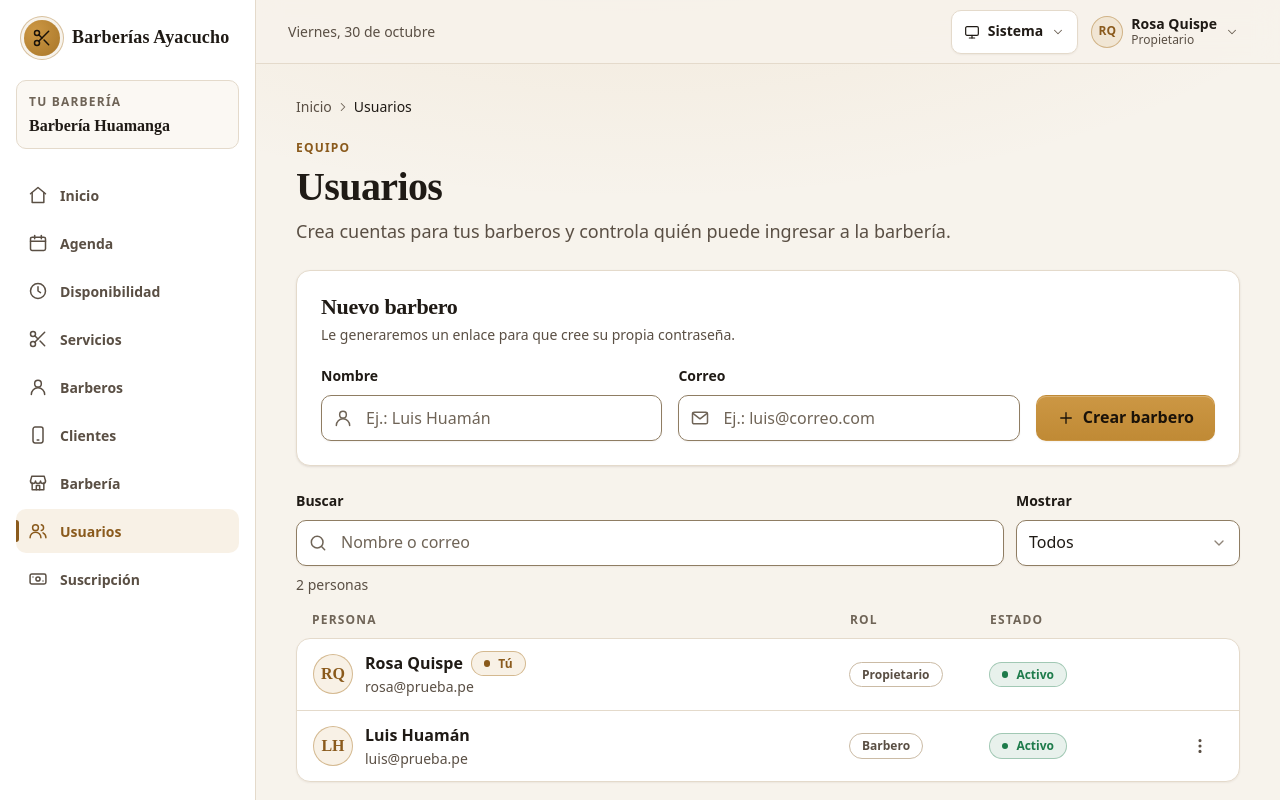
Scenario: Página de usuarios › desactivar desde el menú de la fila pide confirmación y solo envía el cambio si se confirma
Click the button named "acciones para luis huamán" at (1200, 746), box [1177,723,1223,769]
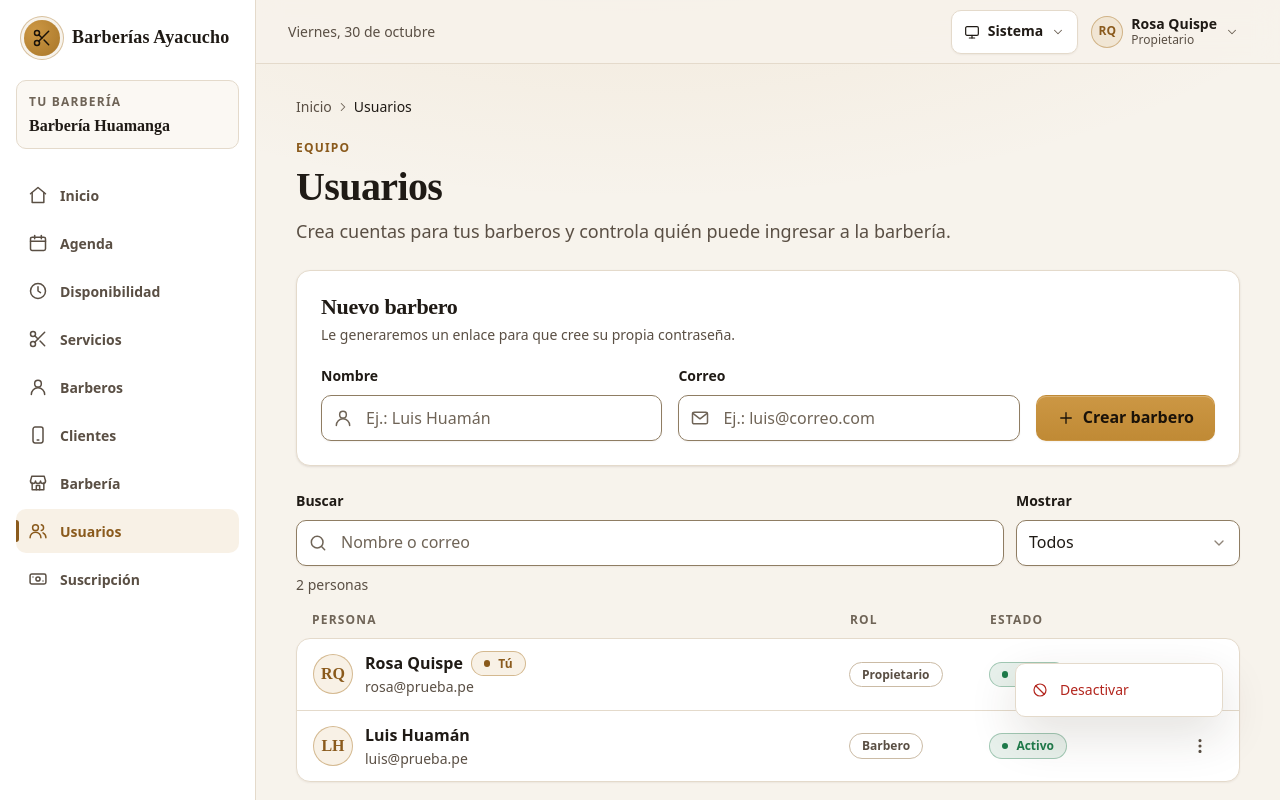
Click the menu item "Desactivar" at (1080, 690), box [1032,680,1129,699]
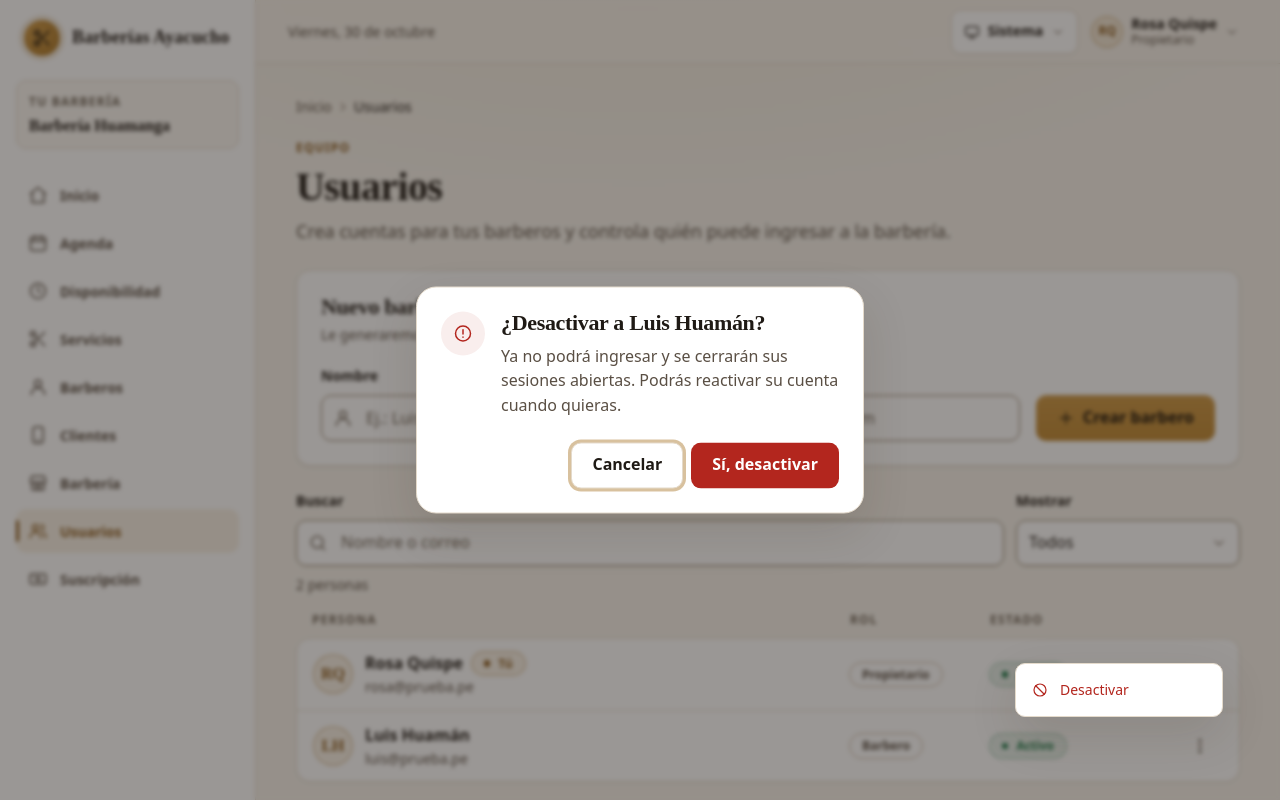
Click the button "Cancelar" at (627, 466), box [571,442,683,488]
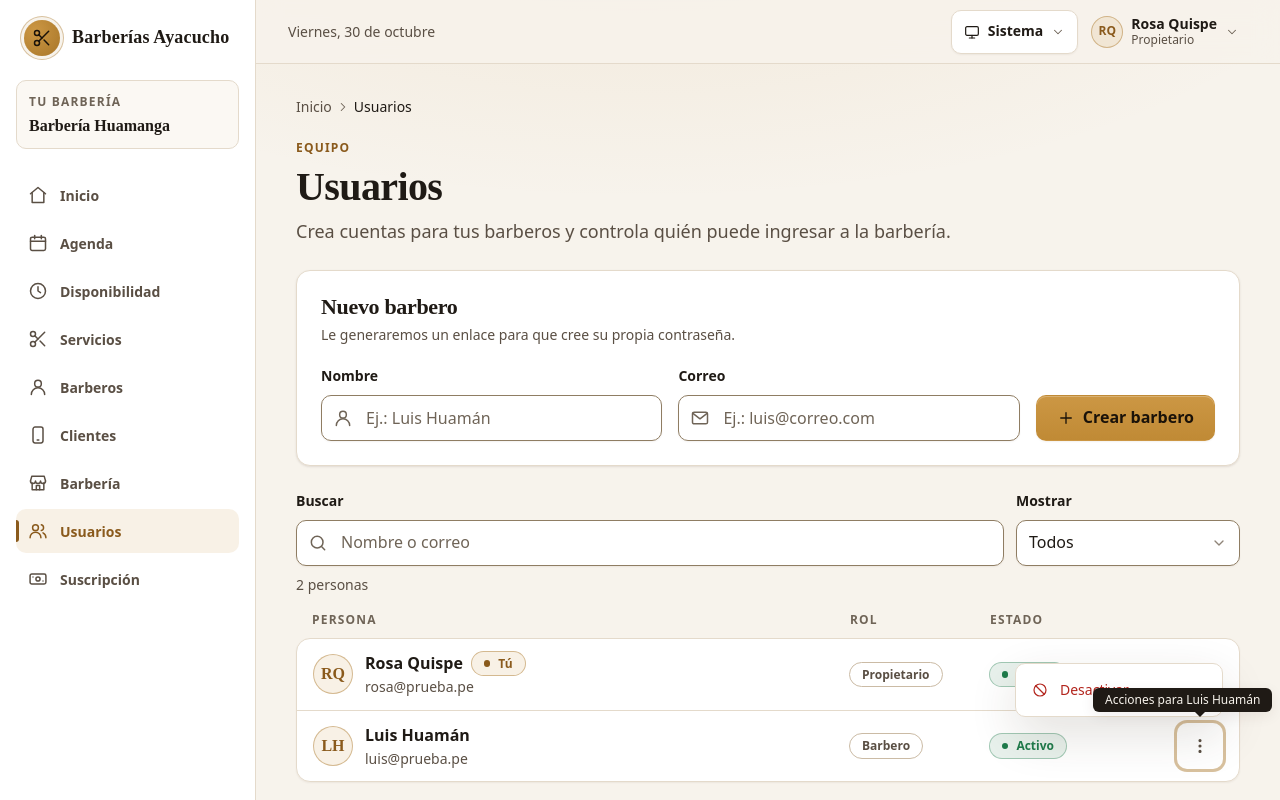
Result: the dialog is gone
Click the button named "acciones para luis huamán" at (1200, 746), box [1177,723,1223,769]
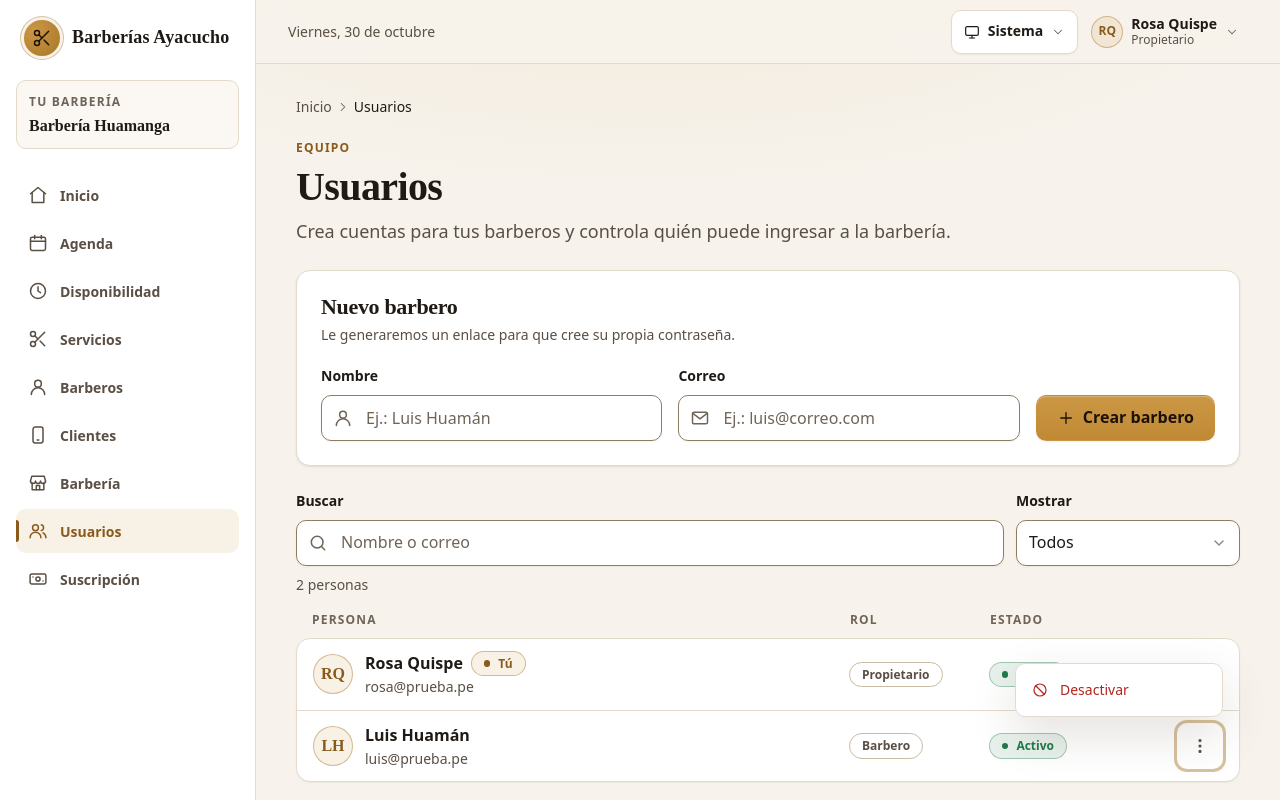
Click the menu item "Desactivar" at (1080, 690), box [1032,680,1129,699]
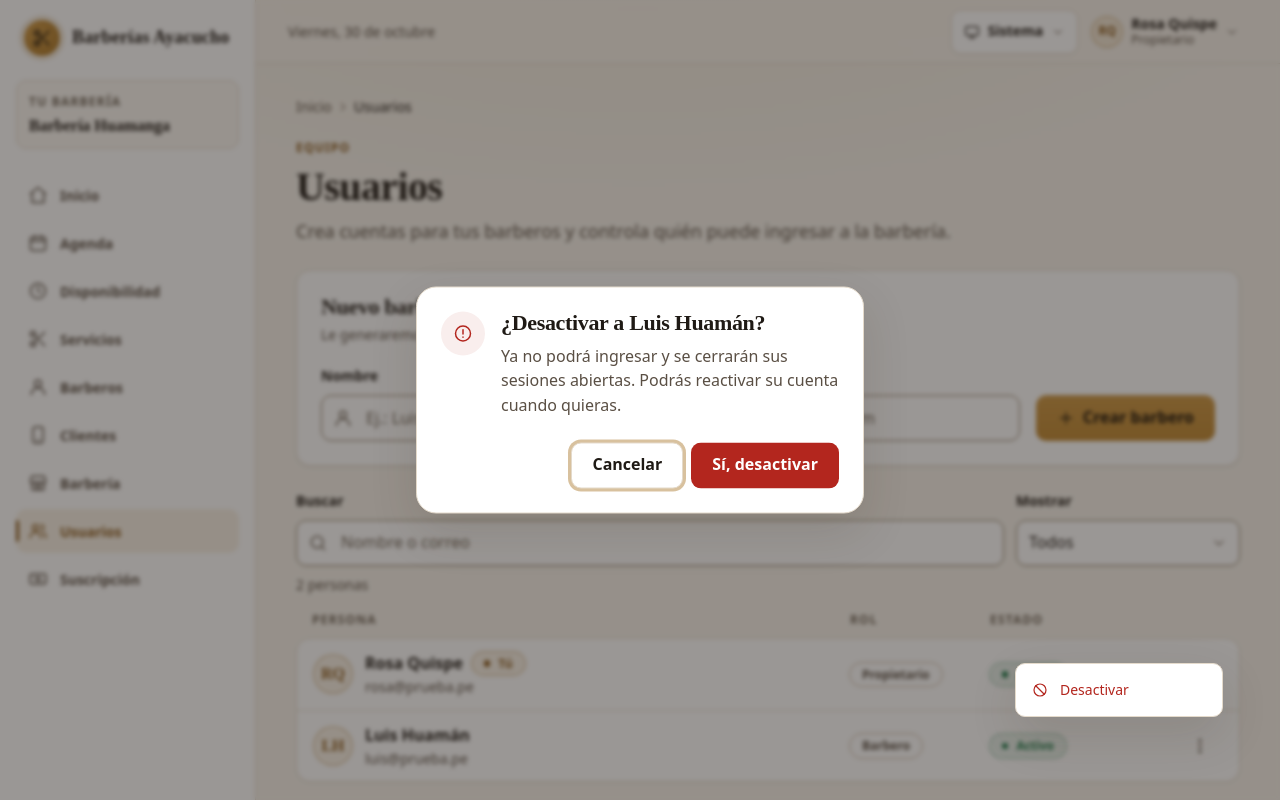
Click the button "Sí, desactivar" at (765, 466), box [691,442,839,488]
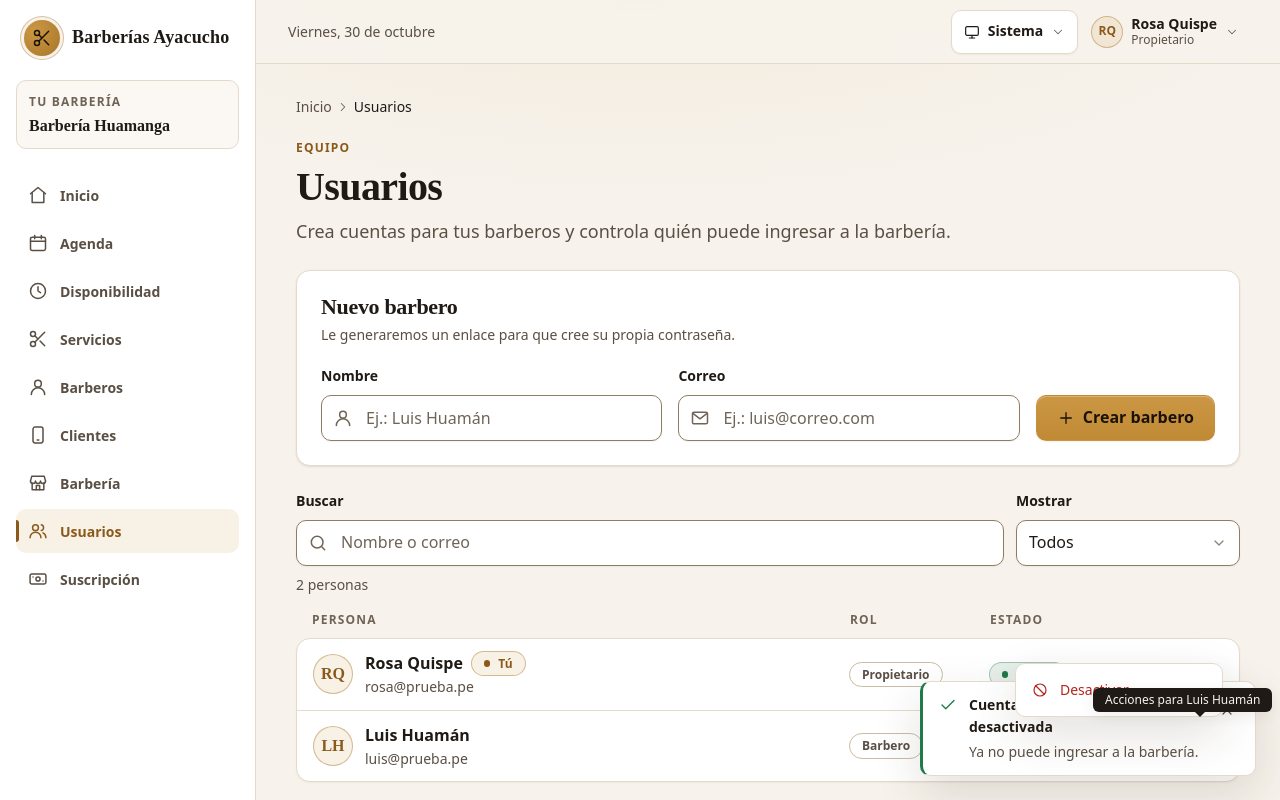
Result: the text "Cuenta de Luis Huamán desactivada" is shown at [969,695,1135,736]
